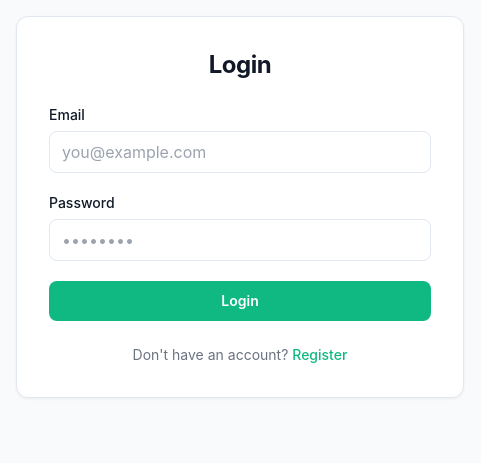
Test: LoginPage › shows validation errors for empty fields
The width and height of the screenshot is (481, 463).
Click the button "Login" at (240, 301), box [49, 281, 431, 321]
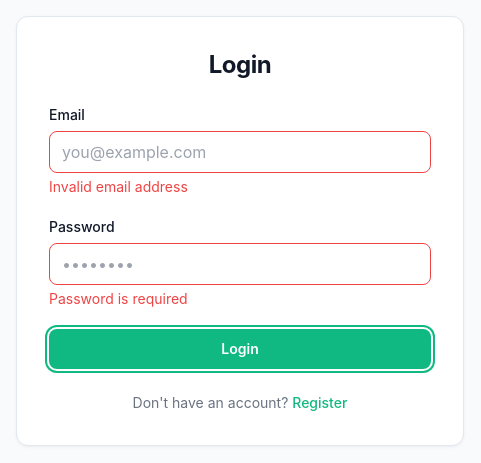
Expected: the text "Invalid email address" is shown, [49, 178, 188, 195]
Expected: the text "Password is required" is shown, [49, 290, 188, 307]
